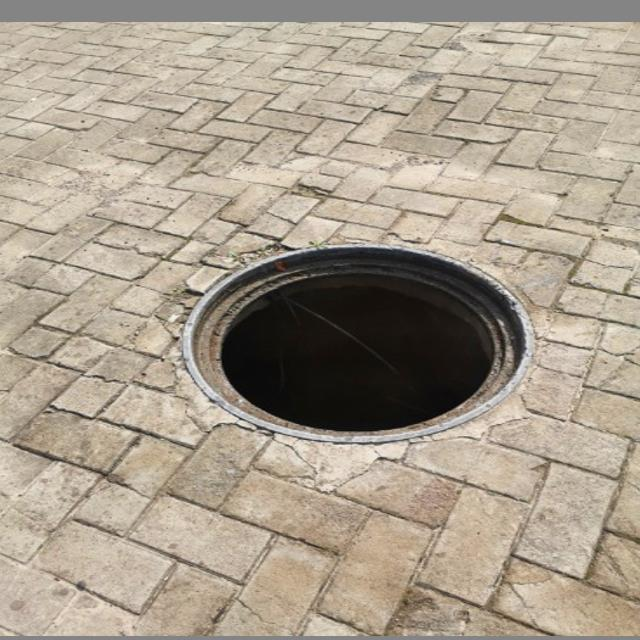lose: (179, 241, 533, 441)
